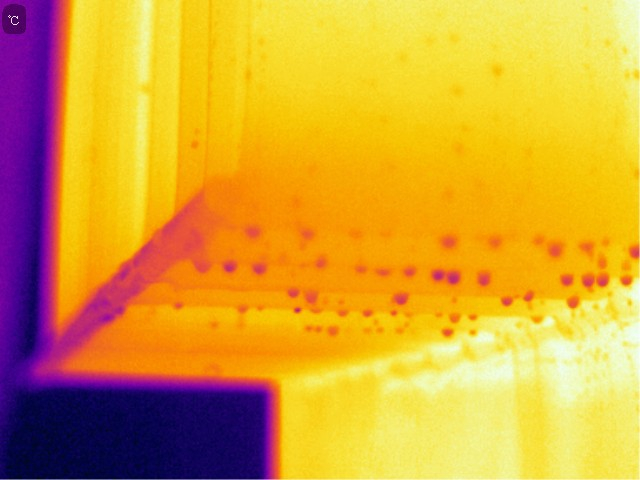Water: (577, 233, 616, 269), (619, 238, 640, 300), (544, 237, 571, 261), (283, 286, 325, 301), (436, 234, 464, 253), (339, 306, 376, 320), (305, 323, 342, 336), (310, 252, 333, 270), (426, 266, 445, 287), (388, 290, 414, 305), (247, 261, 274, 275), (467, 308, 480, 337), (555, 271, 577, 288), (475, 270, 495, 288), (495, 294, 519, 309), (445, 267, 462, 288), (351, 260, 371, 277), (241, 222, 262, 238), (562, 295, 584, 310), (530, 312, 548, 329), (230, 302, 253, 315), (402, 262, 419, 279), (169, 301, 191, 314), (437, 328, 460, 340), (521, 288, 538, 304), (596, 271, 609, 291), (289, 305, 309, 317), (220, 259, 238, 272), (449, 310, 464, 325), (377, 265, 393, 278), (583, 272, 595, 288)
